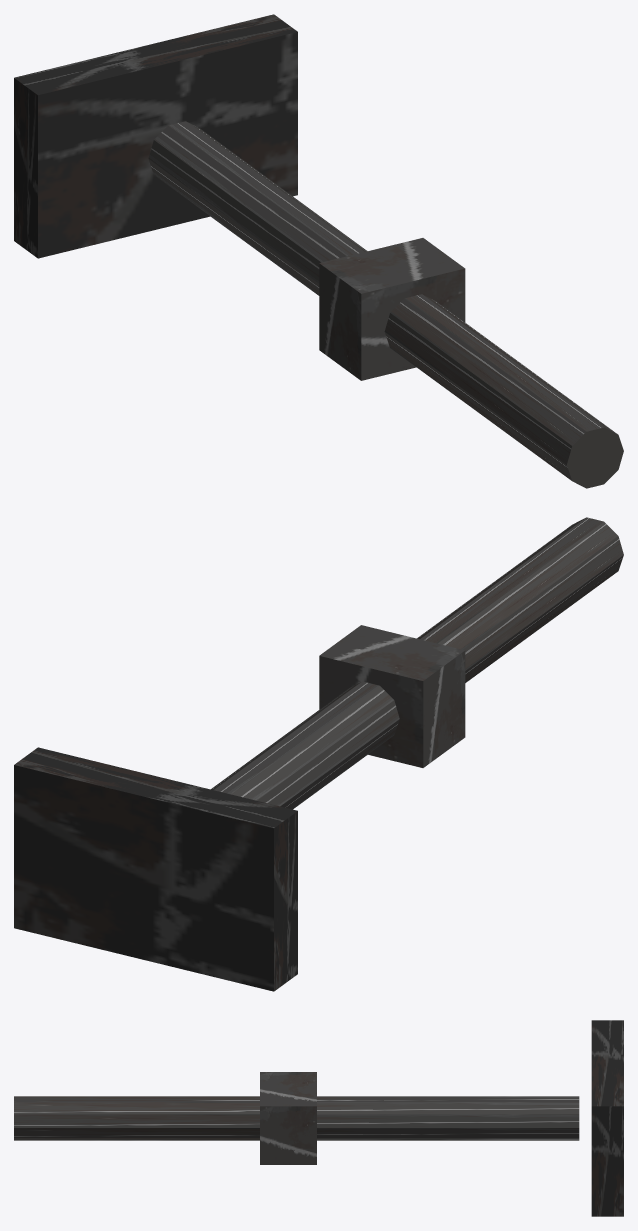
Rendered from SM_Fighter_GearL.obj.
The picture shows the model from 3 angles, top to bottom: view 1: azimuth 30°, elevation 25°; view 2: azimuth 150°, elevation 25°; view 3: azimuth 270°, elevation 25°; orthographic projection. The views are drawn at different scales.
Parts seen in each view (by area): view 1: SM_Fighter_GearL; view 2: SM_Fighter_GearL; view 3: SM_Fighter_GearL.
Part boxes in pixels (x1=…): SM_Fighter_GearL: x1=14, y1=14, x2=623, y2=488; SM_Fighter_GearL: x1=14, y1=517, x2=623, y2=991; SM_Fighter_GearL: x1=14, y1=1020, x2=623, y2=1216.
Size of the model in its own units: 70 by 42 by 210.
Materials: 1 (1 with a texture image).
